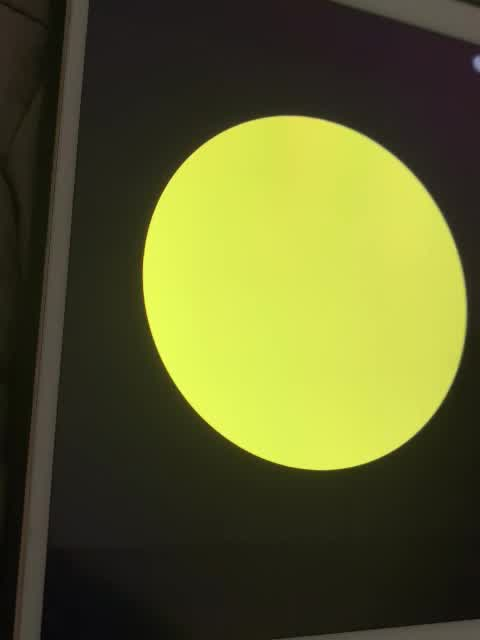left: (115, 97, 480, 487)
